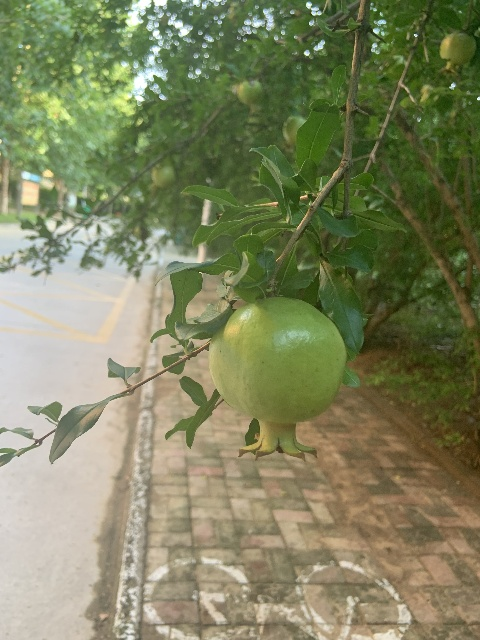mid-growth: (209, 296, 347, 460), (438, 33, 476, 73), (236, 81, 264, 115), (282, 115, 305, 151)
